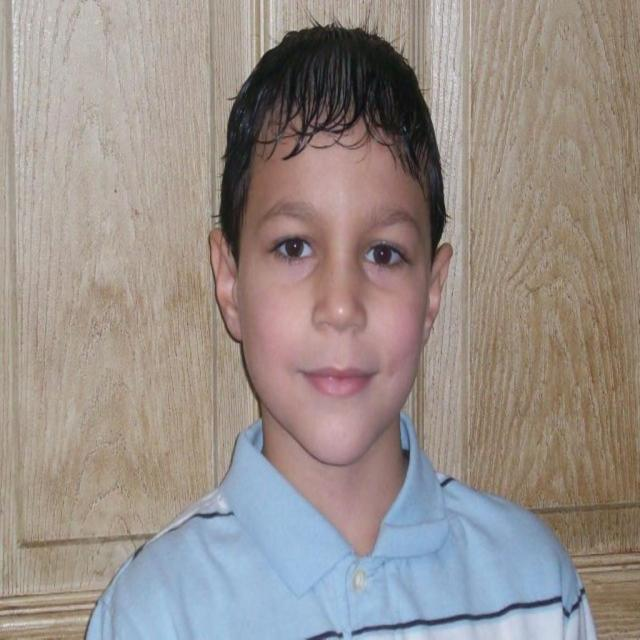Face: (247, 118, 437, 456)
